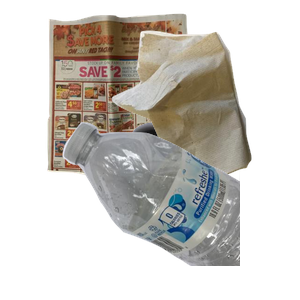glass: (115, 120, 300, 300)
paper: (44, 11, 229, 181)
plastic: (60, 120, 300, 300)
trash: (109, 28, 300, 208)
